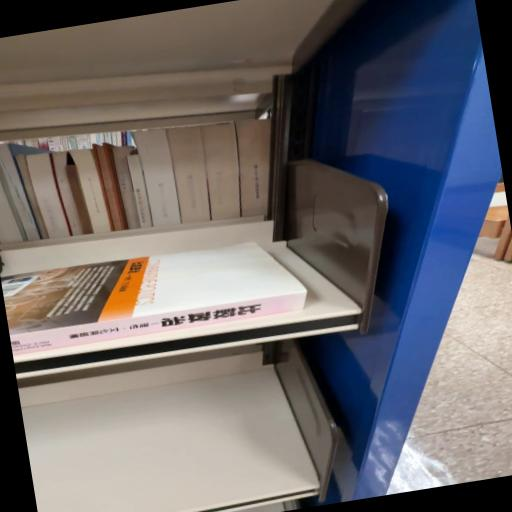flat: (1, 243, 307, 357)
